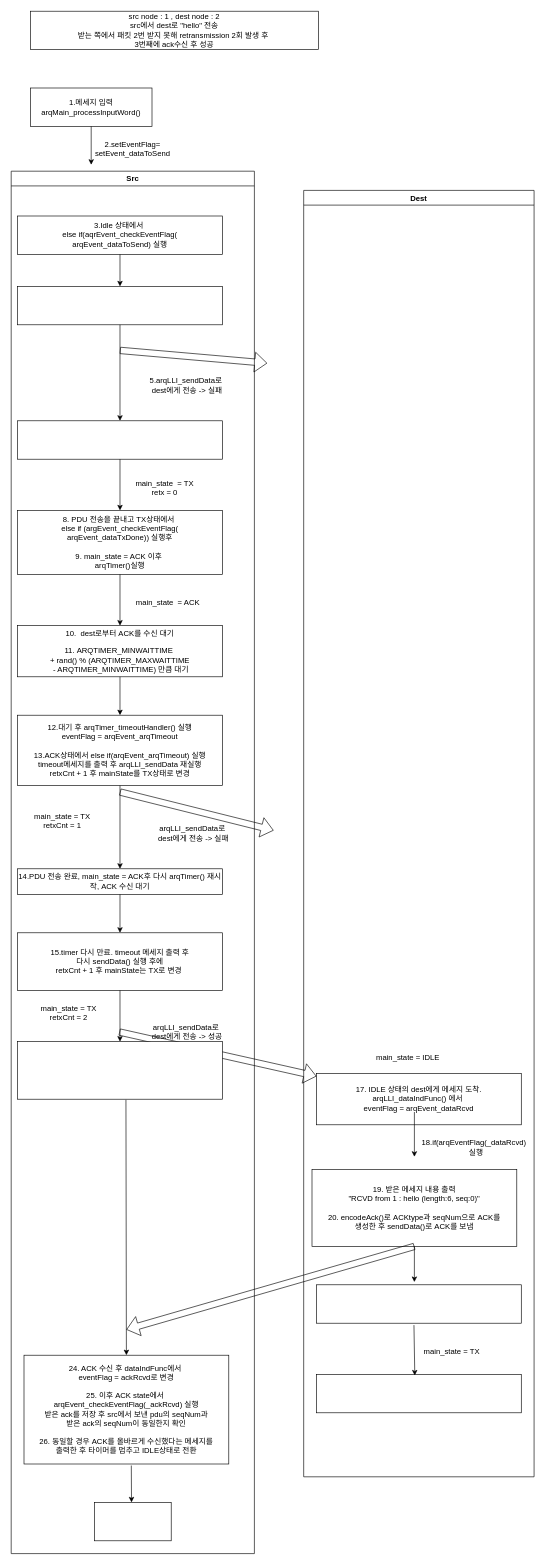
The diagram is 545 pixels wide and 1565 high, and some of its shapes have lost their labels. Each missing label, with the centre of its shape:
"16. PDU 전송이 끝난 후 main_state=ACK 3번째 TIMER 동작" belongs at [119,1070].
"21. 이후 arqLLI_dataCnfFunc()에서 eventFlag = ackTxDone 22.main_state = TX로 변경" belongs at [418,1303].
"23. TX 상태에서 TimerStatus == 0이므로 IDLE상태로 변경" belongs at [418,1393].
"4.arqMsg_encodeData() arqType, seqNum, originWord를 담은 PDU 생성" belongs at [119,305].
"6.이후 seqNum 1증가후 retxCnt를 0으로 초기화 7.mainstate를 TX로 변경 후 eventFlag를 clear" belongs at [119,439].
"state = IDLE" belongs at [132,1521].
